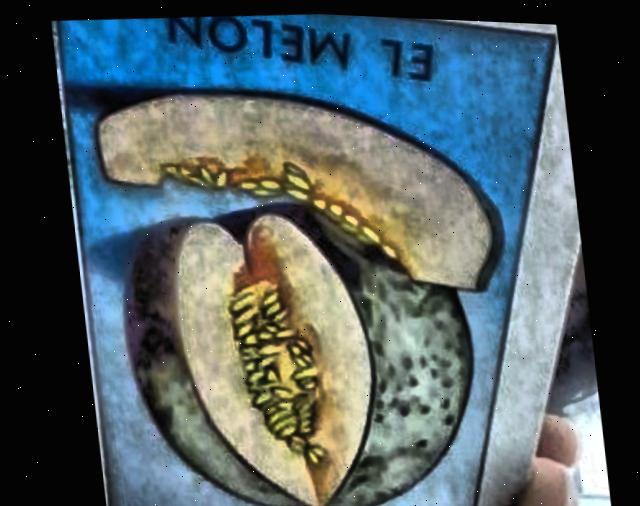El Melon: (61, 11, 552, 506)
